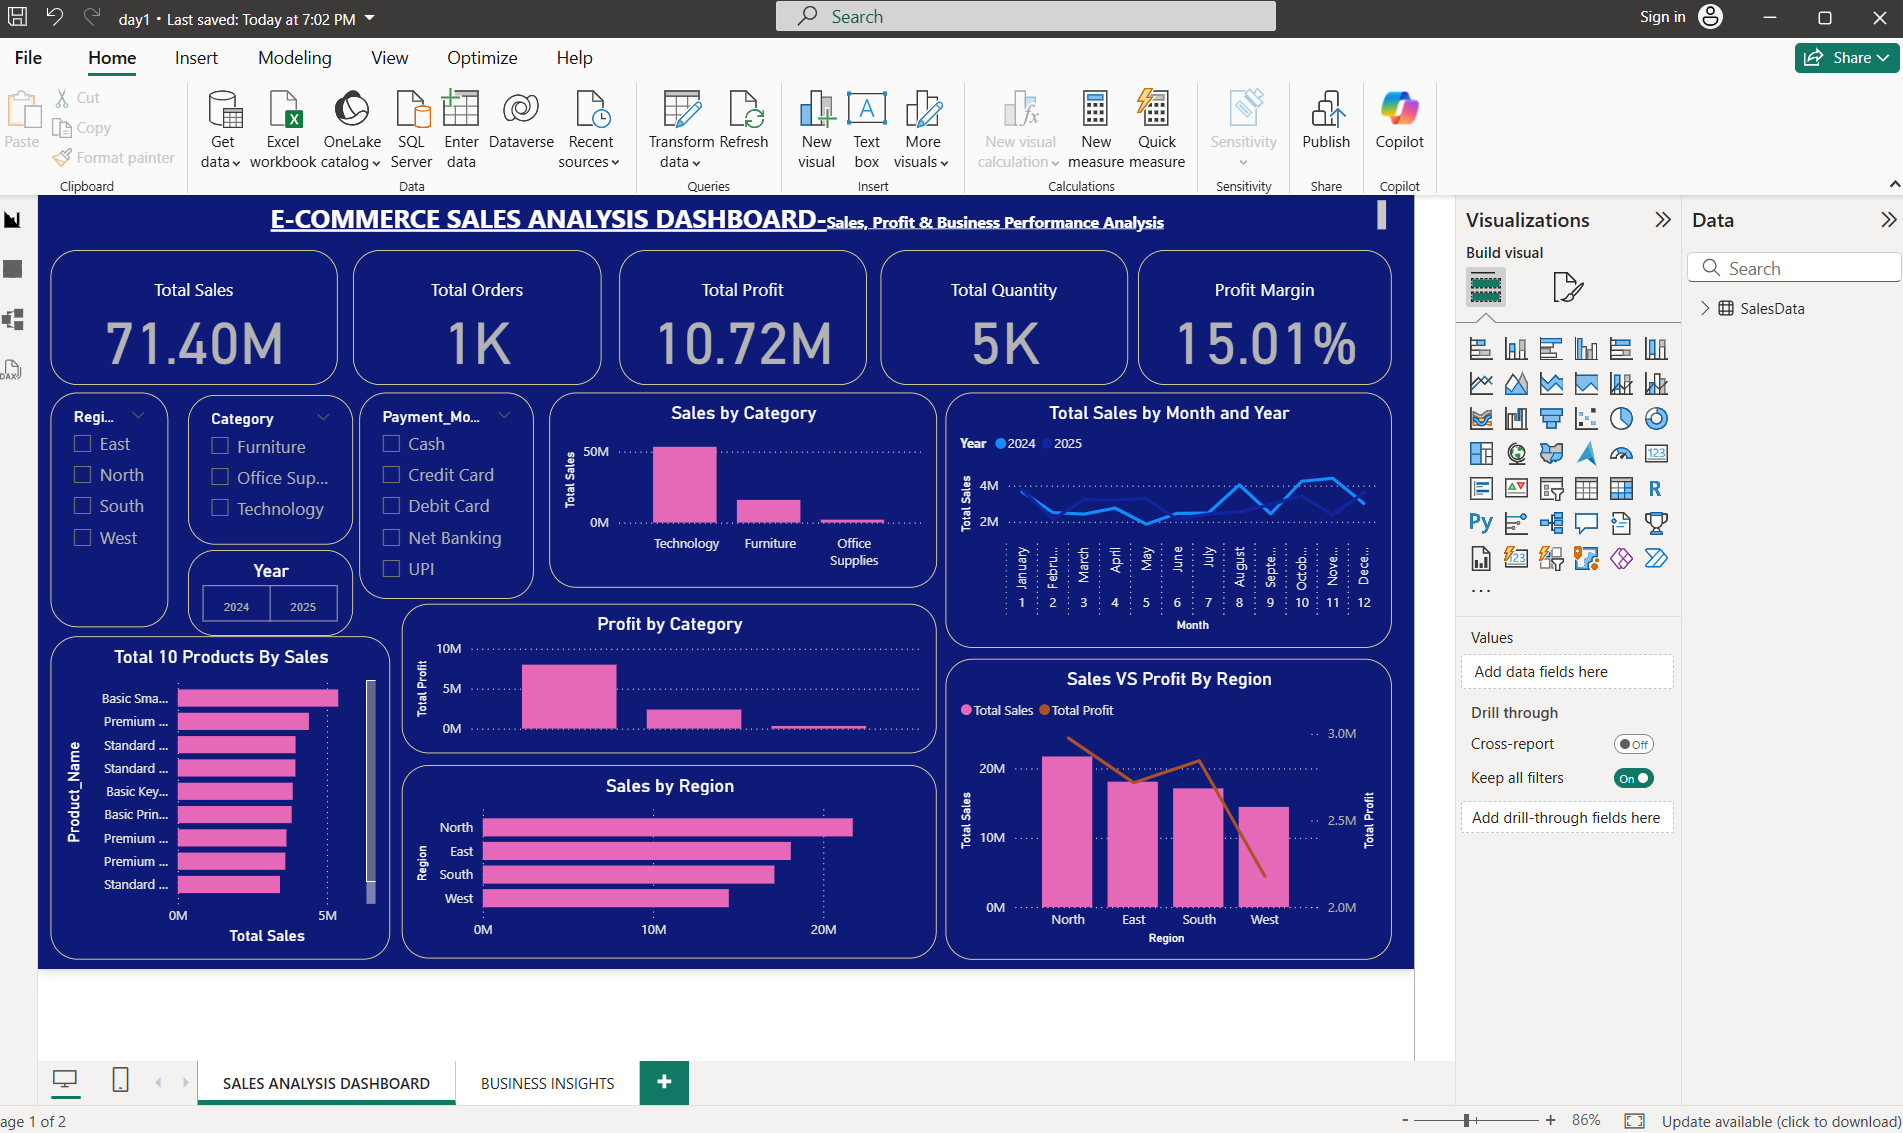

The dashboard page shown, as its layout file describes it:
{"tool":"powerbi","page":{"name":"SALES ANALYSIS DASHBOARD","canvas":[1280,720],"ordinal":0},"visuals":[{"type":"cardVisual","fields":{"Data":["SalesData.Total Sales"]},"box":[11.6,51.2,267.4,125.6],"z":0},{"type":"cardVisual","fields":{"Data":["SalesData.Total Quantity"]},"box":[783.7,51.2,230.2,125.6],"z":1000},{"type":"cardVisual","fields":{"Data":["SalesData.Total Profit"]},"box":[540.7,51.2,230.2,125.6],"z":2000},{"type":"cardVisual","fields":{"Data":["SalesData.Total Orders"]},"box":[293,51.2,231.4,125.6],"z":3000},{"type":"cardVisual","fields":{"Data":["SalesData.Profit Margin"]},"box":[1023.3,51.2,236,125.6],"z":4000},{"type":"clusteredColumnChart","title":"Sales by Category","fields":{"Category":["SalesData.Category"],"Y":["SalesData.Total Sales"]},"box":[475.6,183.7,360.5,181.4],"z":5000},{"type":"clusteredBarChart","title":" Sales by Region","fields":{"Category":["SalesData.Region"],"Y":["SalesData.Total Sales"]},"box":[338.4,530.2,497.7,180.2],"z":6000},{"type":"lineChart","title":"Total Sales by Month and Year","fields":{"Y":["SalesData.Total Sales"],"Category":["SalesData.Month Number","SalesData.Month"],"Series":["SalesData.Year"]},"box":[844.2,183.7,415.1,237.2],"z":7000},{"type":"clusteredBarChart","title":"Total 10 Products By Sales","fields":{"Category":["SalesData.Product_Name"],"Y":["SalesData.Total Sales"]},"box":[11.6,410.5,316.3,301.2],"z":8000},{"type":"slicer","fields":{"Values":["SalesData.Region"]},"box":[11.6,183.7,109.3,218.6],"z":9000},{"type":"slicer","fields":{"Values":["SalesData.Category"]},"box":[139.5,186,153.5,139.5],"z":10000},{"type":"slicer","fields":{"Values":["SalesData.Payment_Mode"]},"box":[298.8,183.7,162.8,191.9],"z":11000},{"type":"textbox","box":[11.6,0,1247.7,39.5],"z":12000},{"type":"clusteredColumnChart","title":" Profit by Category","fields":{"Category":["SalesData.Category"],"Y":["SalesData.Total Profit"]},"box":[338.4,380.2,497.7,139.5],"z":13000},{"type":"lineClusteredColumnComboChart","title":"Sales VS Profit By Region","fields":{"Category":["SalesData.Region"],"Y":["SalesData.Total Sales"],"Y2":["SalesData.Total Profit"]},"box":[844.2,431.4,415.1,280.2],"z":14000},{"type":"advancedSlicerVisual","fields":{"Values":["SalesData.Year"]},"box":[139.5,330.2,153.5,80.2],"z":15000}]}

Visuals, with their boxes on the page's 1280x720 design canvas (x1, y1, x2, y2). These are canvas units, not pixel positions in the 1903x1133 screenshot, which may show the page scaled, cropped or inside an application window:
cardVisual - SalesData.Total Sales: <region>12, 51, 279, 177</region>
cardVisual - SalesData.Total Quantity: <region>784, 51, 1014, 177</region>
cardVisual - SalesData.Total Profit: <region>541, 51, 771, 177</region>
cardVisual - SalesData.Total Orders: <region>293, 51, 524, 177</region>
cardVisual - SalesData.Profit Margin: <region>1023, 51, 1259, 177</region>
"Sales by Category" clusteredColumnChart: <region>476, 184, 836, 365</region>
" Sales by Region" clusteredBarChart: <region>338, 530, 836, 710</region>
"Total Sales by Month and Year" lineChart: <region>844, 184, 1259, 421</region>
"Total 10 Products By Sales" clusteredBarChart: <region>12, 410, 328, 712</region>
slicer - SalesData.Region: <region>12, 184, 121, 402</region>
slicer - SalesData.Category: <region>140, 186, 293, 326</region>
slicer - SalesData.Payment_Mode: <region>299, 184, 462, 376</region>
textbox: <region>12, 0, 1259, 40</region>
" Profit by Category" clusteredColumnChart: <region>338, 380, 836, 520</region>
"Sales VS Profit By Region" lineClusteredColumnComboChart: <region>844, 431, 1259, 712</region>
advancedSlicerVisual - SalesData.Year: <region>140, 330, 293, 410</region>
